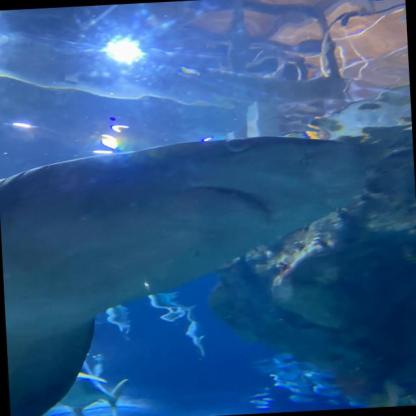fish: (57, 368, 133, 416)
shark: (0, 130, 382, 415)
